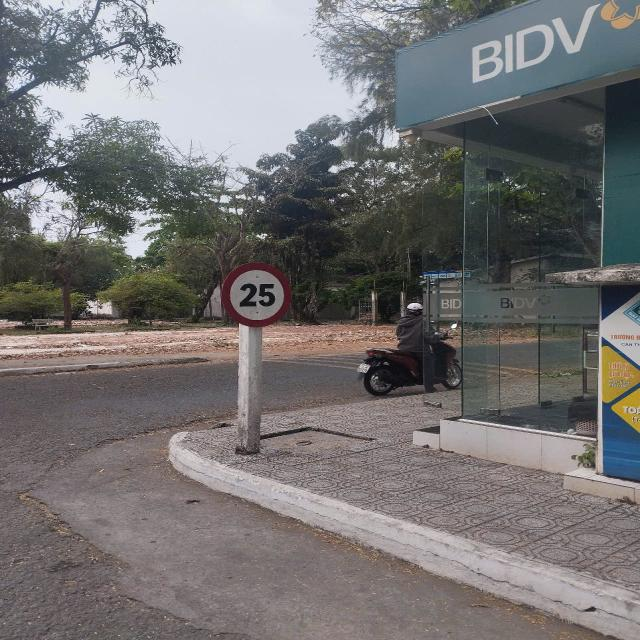Tre_Em: (218, 260, 296, 327)
